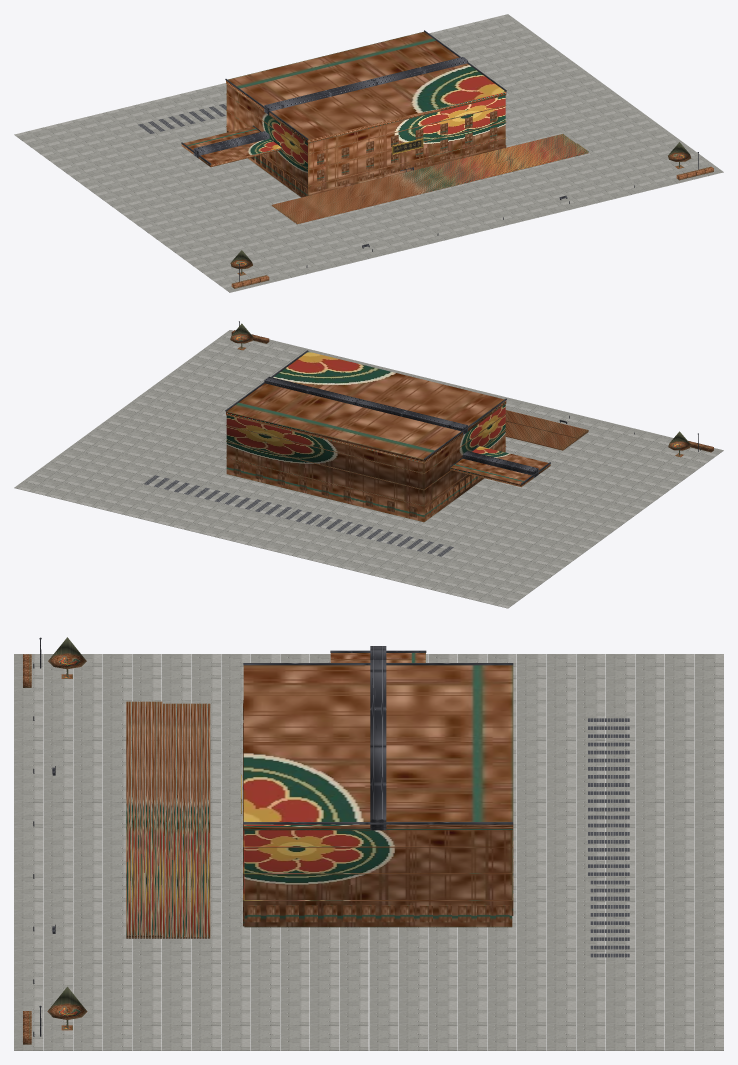
3 renders of one model, top to bottom at view 1: azimuth 30°, elevation 25°; view 2: azimuth 150°, elevation 25°; view 3: azimuth 270°, elevation 25°, orthographic. The views are drawn at different scales.
Parts seen in each view (by area): view 1: 11710_01_05540_014_01__plinth_ground_base, 11710_01_05540_014_02__mass_body_facade, 11710_01_05540_014_03__roof_metal_ornament, 11710_01_05540_014_05__window_sash_glass, 11710_01_05540_014_06__landscape_greenery, 11710_01_05540_014_03__roof_deck_structure; view 2: 11710_01_05540_014_01__plinth_ground_base, 11710_01_05540_014_02__mass_body_facade, 11710_01_05540_014_03__roof_metal_ornament, 11710_01_05540_014_03__roof_deck_structure, 11710_01_05540_014_06__landscape_greenery; view 3: 11710_01_05540_014_01__plinth_ground_base, 11710_01_05540_014_02__mass_body_facade, 11710_01_05540_014_03__roof_deck_structure, 11710_01_05540_014_03__roof_metal_ornament, 11710_01_05540_014_06__landscape_greenery.
Part boxes in pixels (box(x1,y1,x2,y2)): 11710_01_05540_014_01__plinth_ground_base: box(14, 14, 723, 292); 11710_01_05540_014_02__mass_body_facade: box(181, 31, 588, 224); 11710_01_05540_014_03__roof_metal_ornament: box(181, 30, 506, 164); 11710_01_05540_014_05__window_sash_glass: box(317, 111, 497, 191); 11710_01_05540_014_06__landscape_greenery: box(230, 142, 713, 288); 11710_01_05540_014_03__roof_deck_structure: box(138, 104, 226, 133); 11710_01_05540_014_01__plinth_ground_base: box(14, 330, 723, 608); 11710_01_05540_014_02__mass_body_facade: box(226, 351, 588, 522); 11710_01_05540_014_03__roof_metal_ornament: box(225, 350, 550, 484); 11710_01_05540_014_03__roof_deck_structure: box(144, 475, 453, 556); 11710_01_05540_014_06__landscape_greenery: box(230, 323, 713, 457); 11710_01_05540_014_01__plinth_ground_base: box(14, 654, 723, 1050); 11710_01_05540_014_02__mass_body_facade: box(126, 653, 513, 938); 11710_01_05540_014_03__roof_deck_structure: box(588, 718, 629, 957); 11710_01_05540_014_03__roof_metal_ornament: box(243, 646, 513, 830); 11710_01_05540_014_06__landscape_greenery: box(23, 637, 87, 1044).
Size of the model in its own units: 140 by 18.6 by 106.
7 materials, 7 textured.
